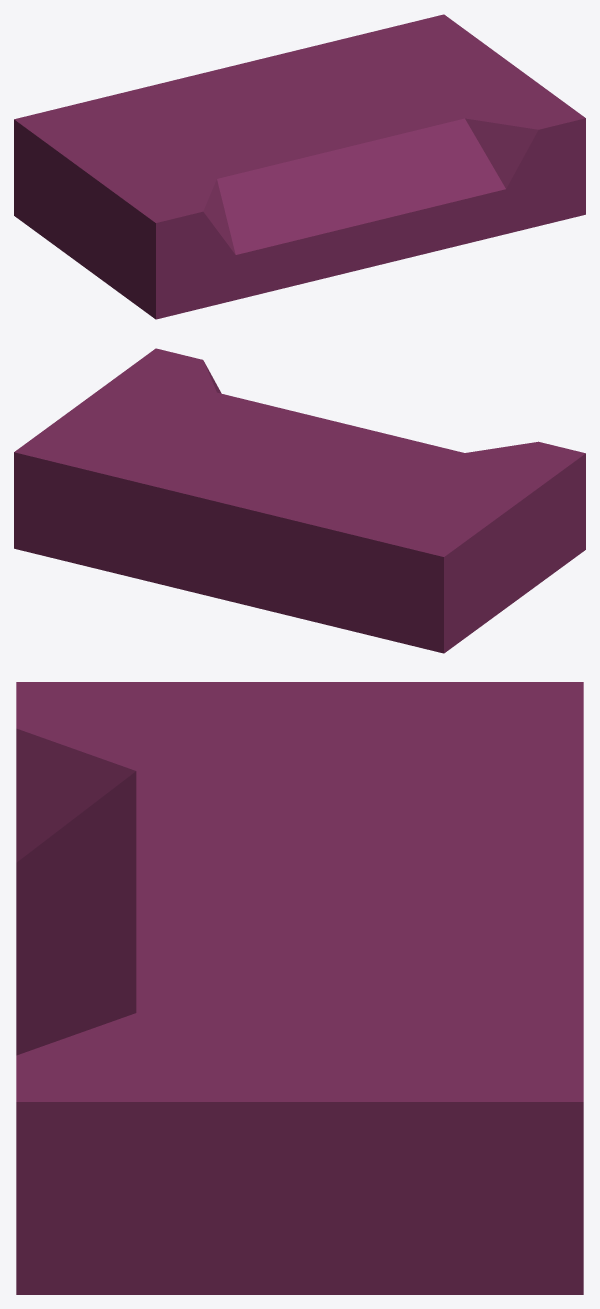
File: SM_BLD_FLOOR_05.fbx
3 renders of one model, top to bottom at view 1: azimuth 30°, elevation 25°; view 2: azimuth 150°, elevation 25°; view 3: azimuth 270°, elevation 25°, orthographic. The views are drawn at different scales.
Visible parts, largest first — view 1: SM_BLD_FLOOR_05; view 2: SM_BLD_FLOOR_05; view 3: SM_BLD_FLOOR_05.
Part boxes in pixels (x1=…): SM_BLD_FLOOR_05: x1=14, y1=14, x2=585, y2=319; SM_BLD_FLOOR_05: x1=14, y1=348, x2=585, y2=653; SM_BLD_FLOOR_05: x1=16, y1=682, x2=583, y2=1294.
Size of the model in its own units: 3.5 by 0.75 by 2.
